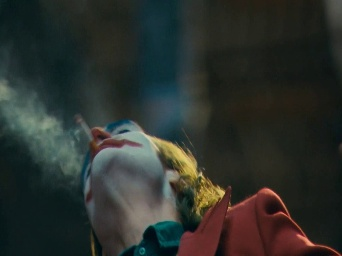smoke: (76, 112, 101, 153)
